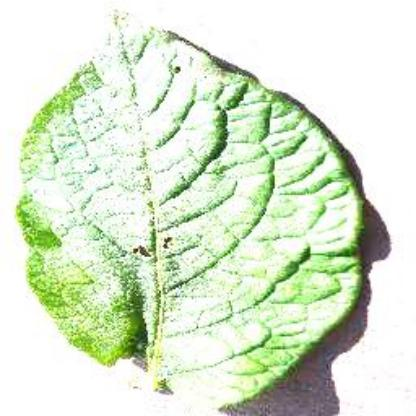Healthy-plant: (11, 7, 384, 413)
